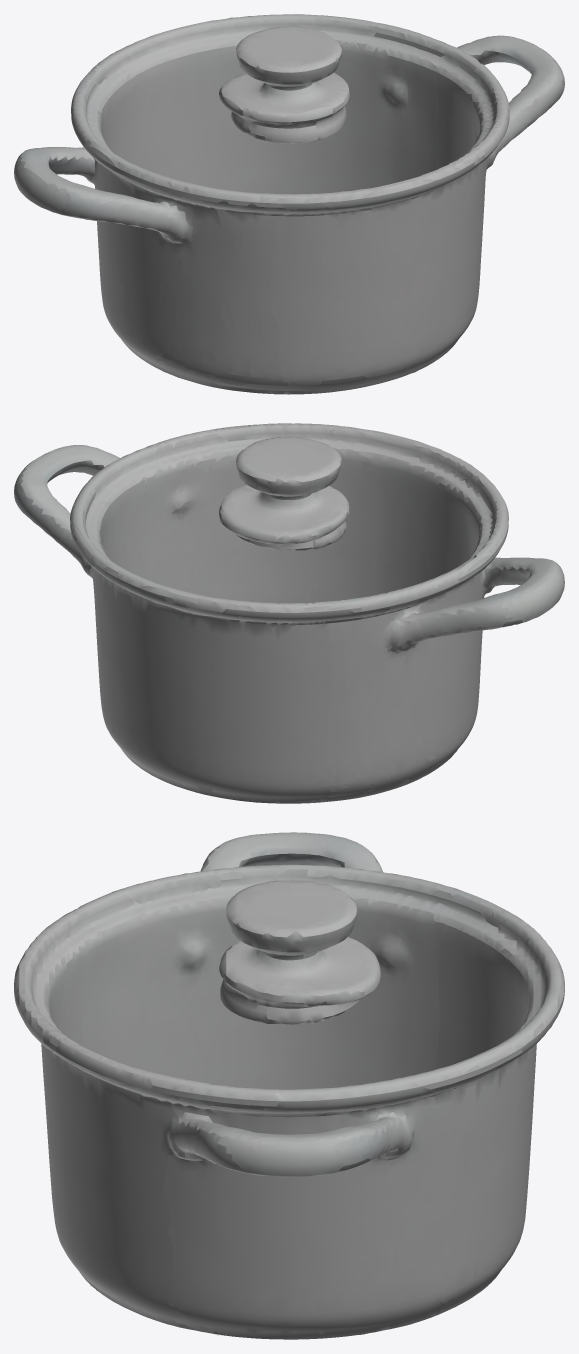
Rendered from pot.glb.
3 views of the same model, one above another, from view 1: azimuth 30°, elevation 25°; view 2: azimuth 150°, elevation 25°; view 3: azimuth 270°, elevation 25° (orthographic). The views are drawn at different scales.
Parts seen in each view (by area): view 1: textured_mesh.obj; view 2: textured_mesh.obj; view 3: textured_mesh.obj.
Part boxes in pixels (x1=…): textured_mesh.obj: x1=14, y1=14, x2=564, y2=394; textured_mesh.obj: x1=14, y1=423, x2=564, y2=803; textured_mesh.obj: x1=14, y1=832, x2=564, y2=1339.
Size of the model in its own units: 0.3699 by 0.1854 by 0.2695.
1 material, 1 textured.
